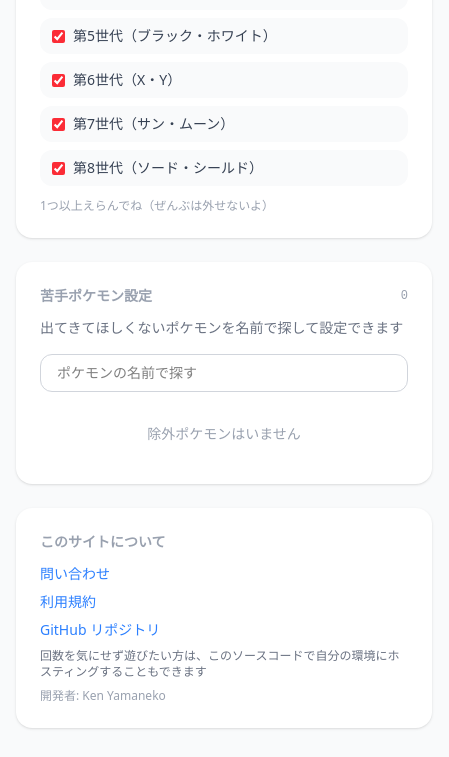
it: [設定] 苦手ポケモン設定 › 異常系 › 設定の保存に失敗する状態で、「ゴル」と入力して検索結果の「ゴルバット」を選んだとき › 「設定の保存に失敗しました」と表示される
(page scrolled)
Type "ゴル" into the field with placeholder "ポケモンの名前で探す".
click(224, 373); type("ゴル")  # box [40, 354, 408, 392]
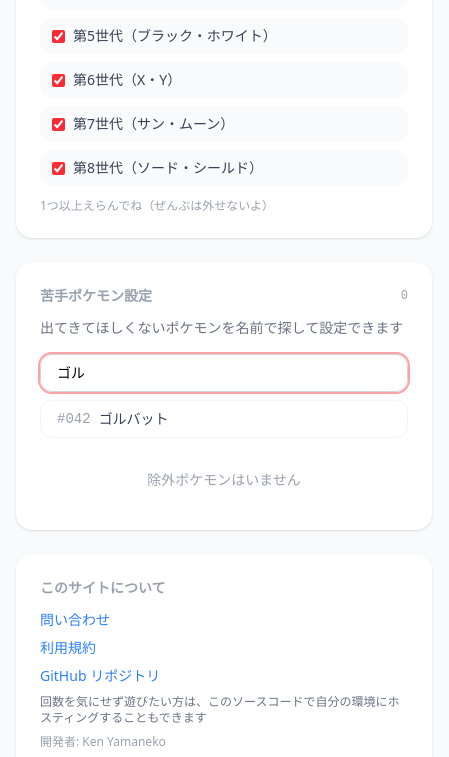
Click the button "#042 ゴルバット".
click(134, 418)  # box [41, 401, 407, 437]
(page scrolled)
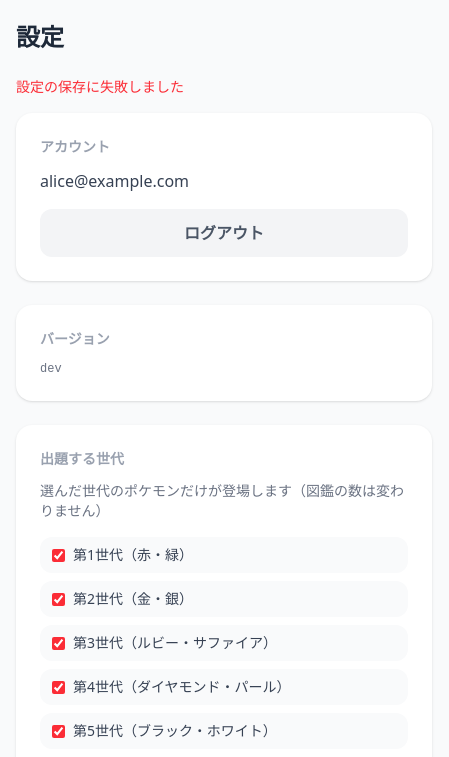
Now the text "設定の保存に失敗しました" is shown, box [16, 77, 184, 96]
